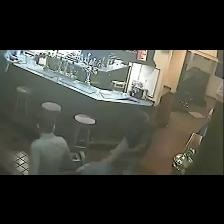person: (77, 111, 155, 174), (29, 103, 75, 174)
